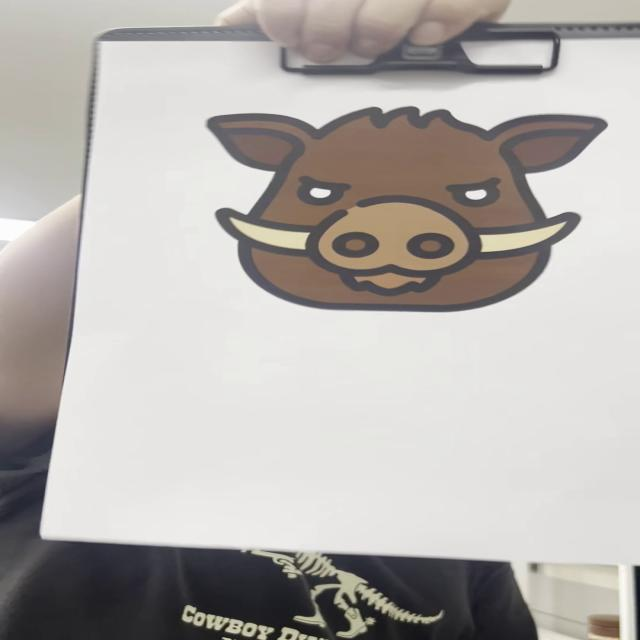animal: (204, 105, 613, 317)
